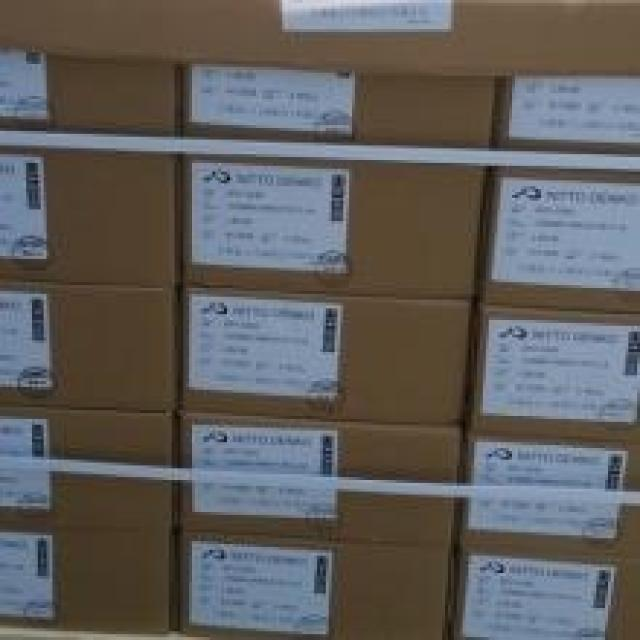box: (183, 157, 483, 300), (183, 288, 471, 425), (180, 416, 465, 553), (180, 532, 451, 640), (186, 61, 497, 145), (0, 145, 180, 285), (0, 279, 180, 410), (471, 303, 640, 439), (480, 169, 640, 311), (463, 433, 640, 559), (0, 407, 177, 532), (0, 527, 175, 631), (457, 544, 640, 640), (0, 49, 177, 134), (500, 79, 640, 154)
